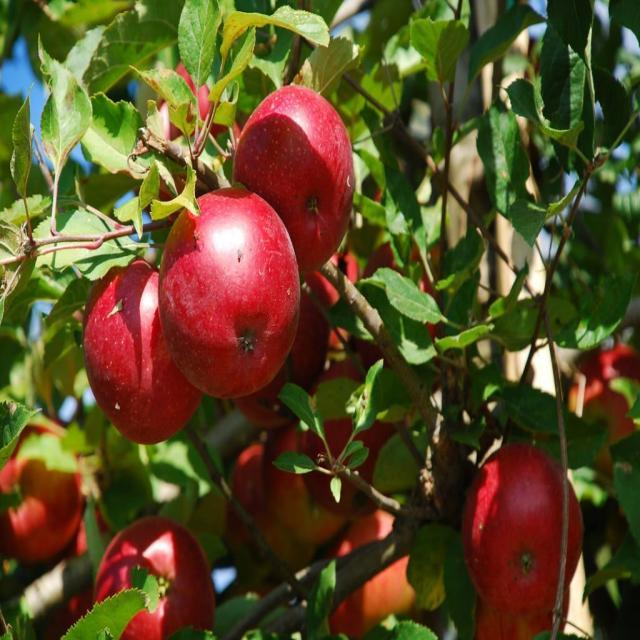Red Apple: (161, 187, 308, 388), (81, 246, 205, 436), (231, 89, 360, 268), (465, 431, 583, 609), (206, 428, 323, 558), (97, 514, 205, 640), (323, 507, 424, 637), (5, 415, 81, 557), (298, 255, 371, 378), (570, 339, 640, 465), (317, 362, 392, 477), (465, 571, 576, 640), (38, 533, 115, 626), (370, 243, 446, 332), (232, 347, 310, 425), (156, 60, 219, 146)
